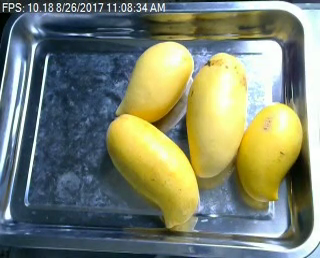Mango: (103, 113, 203, 234), (185, 50, 248, 178), (231, 99, 305, 206), (112, 37, 194, 125)
